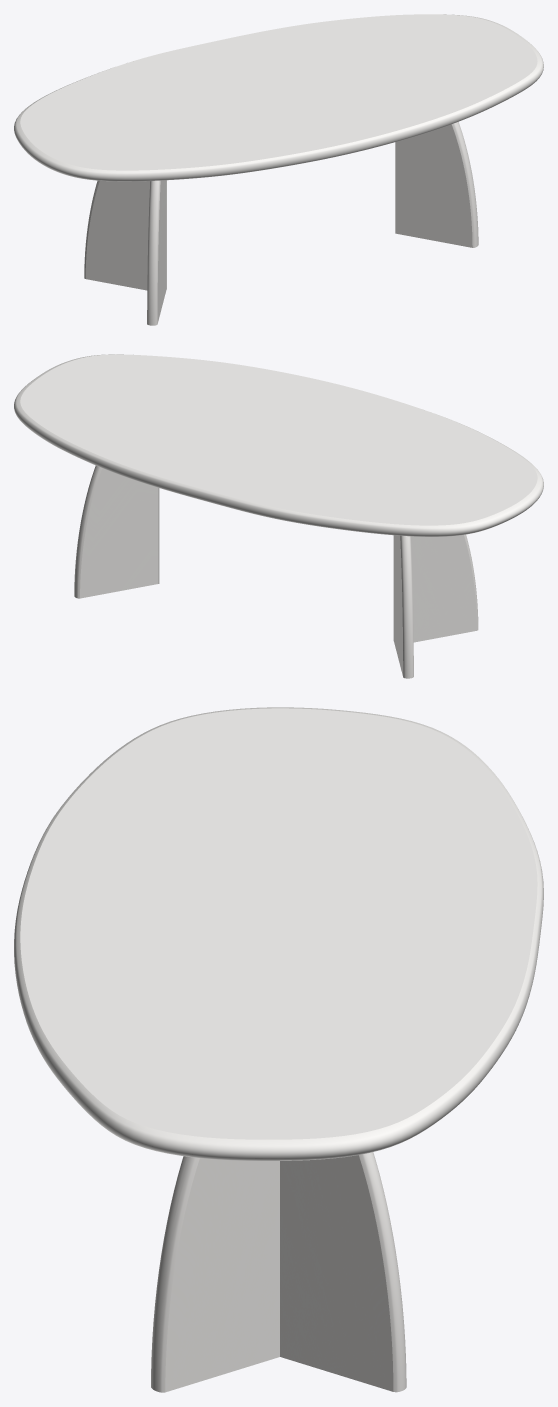
The model's file is purewhite_danish_round_newtable2.glb.
3 renders of one model, top to bottom at view 1: azimuth 30°, elevation 25°; view 2: azimuth 150°, elevation 25°; view 3: azimuth 270°, elevation 25°, orthographic. The views are drawn at different scales.
Parts seen in each view (by area): view 1: round_danish, newtable2_singleright2, newtable2_singleleft1, newtable2_singleright1; view 2: round_danish, newtable2_singleleft2, newtable2_singleright1, newtable2_singleleft1; view 3: round_danish, newtable2_singleright2, newtable2_singleleft2.
Part boxes in pixels (bbox=[...]): round_danish: bbox=[14, 14, 543, 181]; newtable2_singleright2: bbox=[395, 122, 478, 247]; newtable2_singleleft1: bbox=[84, 180, 166, 290]; newtable2_singleright1: bbox=[147, 180, 166, 325]; round_danish: bbox=[14, 354, 543, 536]; newtable2_singleleft2: bbox=[74, 465, 158, 598]; newtable2_singleright1: bbox=[393, 534, 478, 642]; newtable2_singleleft1: bbox=[394, 535, 413, 678]; round_danish: bbox=[14, 707, 543, 1160]; newtable2_singleright2: bbox=[151, 1156, 279, 1392]; newtable2_singleleft2: bbox=[280, 1152, 406, 1392].
Size of the model in its own units: 7.5 by 2.49 by 3.8.
1 material, 1 textured.
